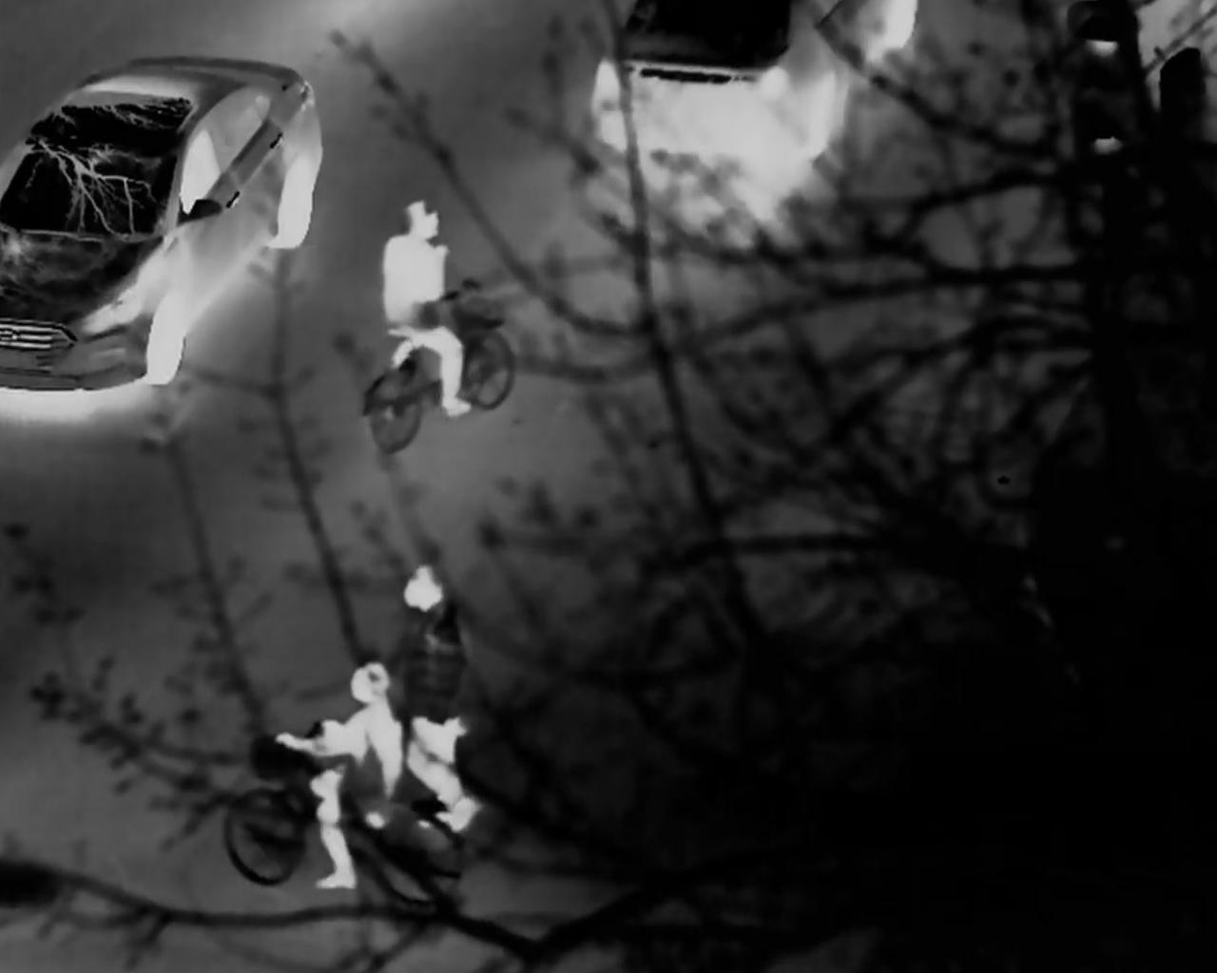person: (277, 658, 397, 889), (391, 565, 485, 848), (382, 193, 481, 448)
